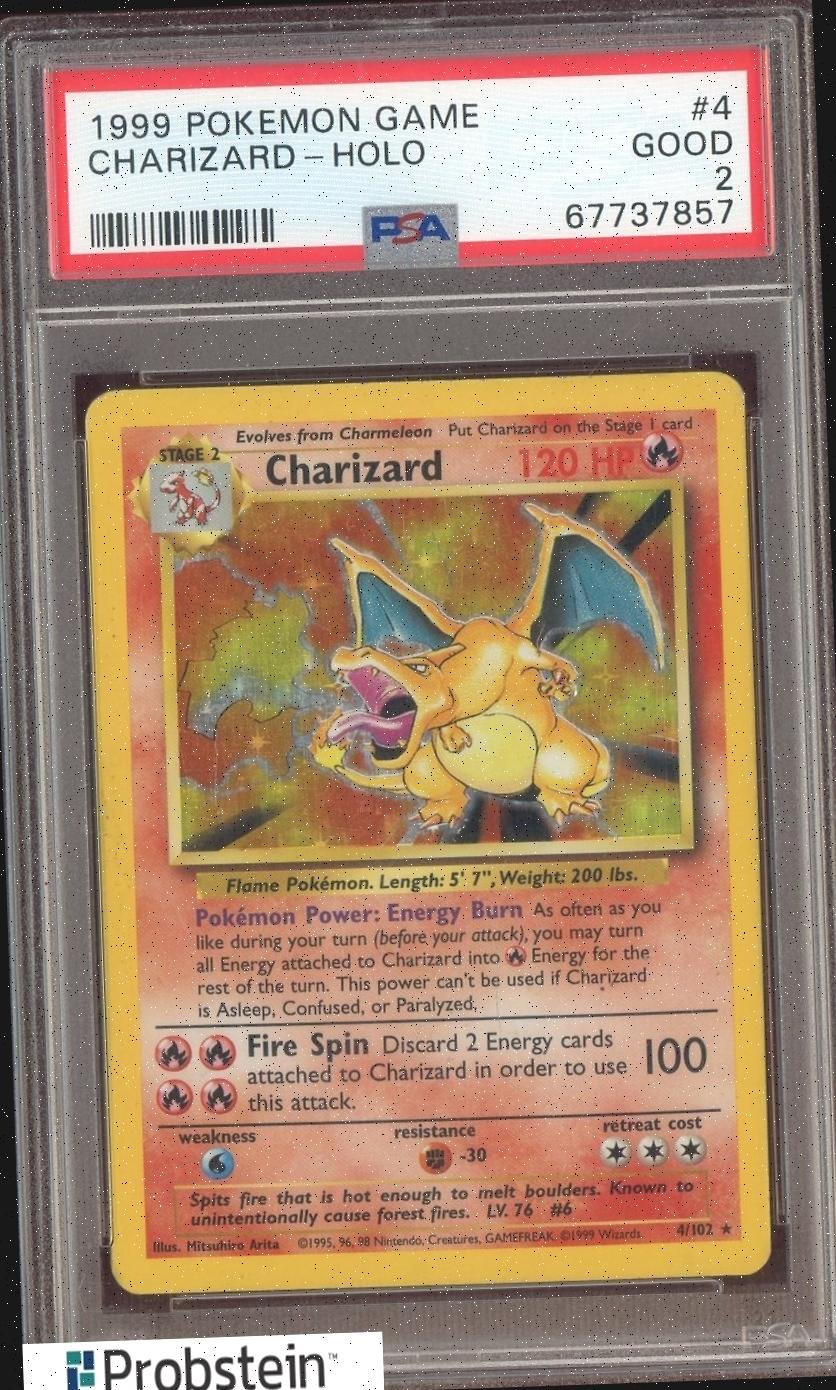card-2UtV: (84, 370, 772, 1295)
